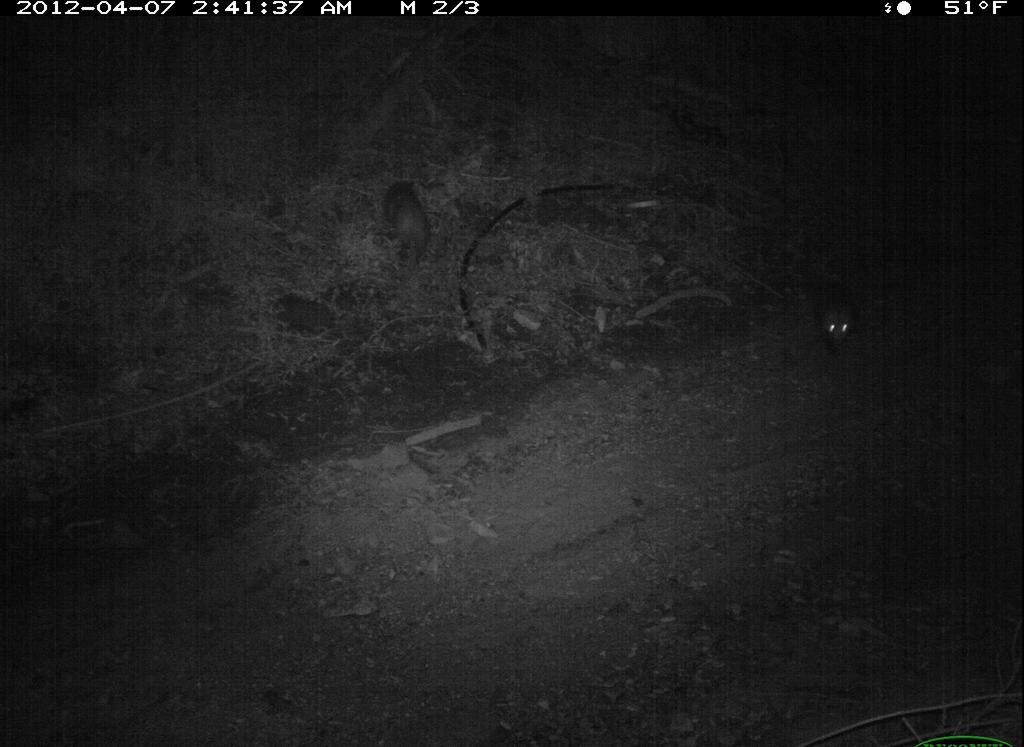opossum: (381, 172, 445, 272), (812, 278, 867, 365)
